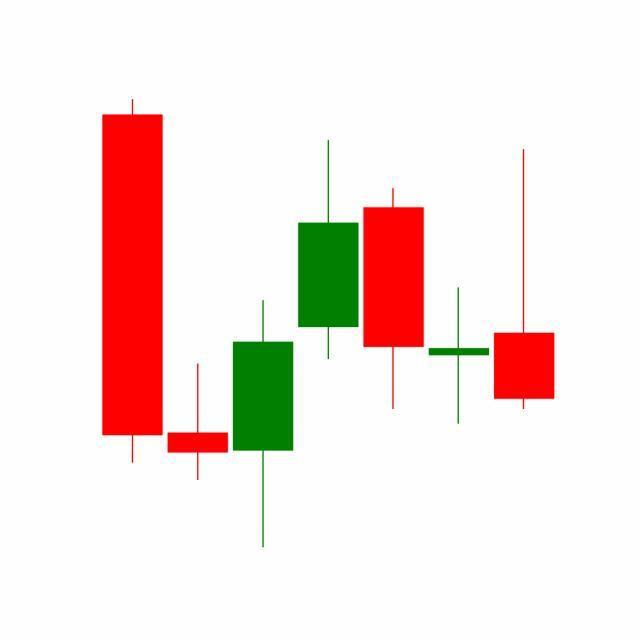Three Outside Up-Down: (295, 138, 492, 428)
